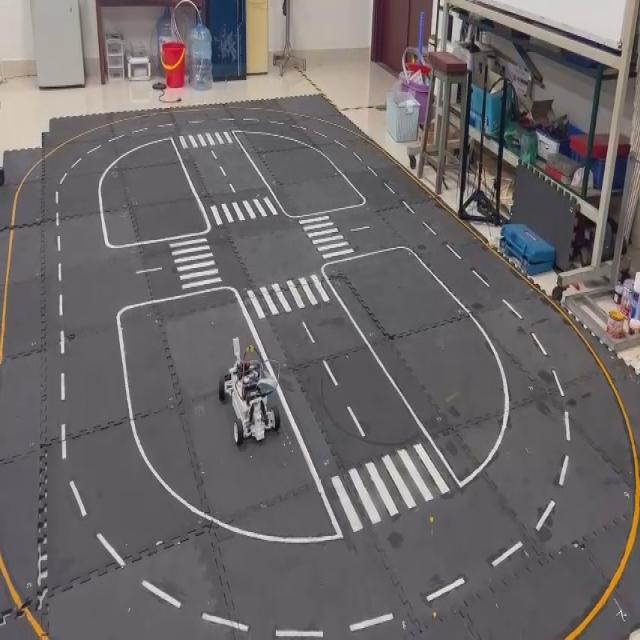SiCo-CAR: (217, 334, 281, 446)
